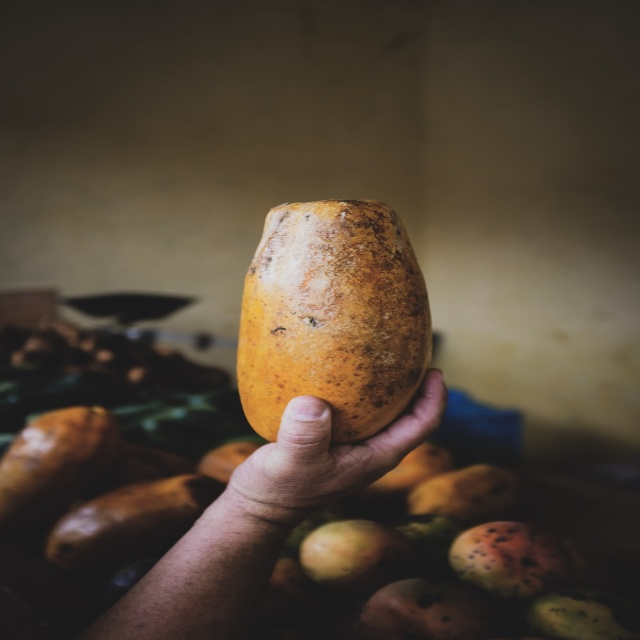mango: (238, 197, 430, 460), (448, 521, 581, 594), (12, 410, 118, 496)
